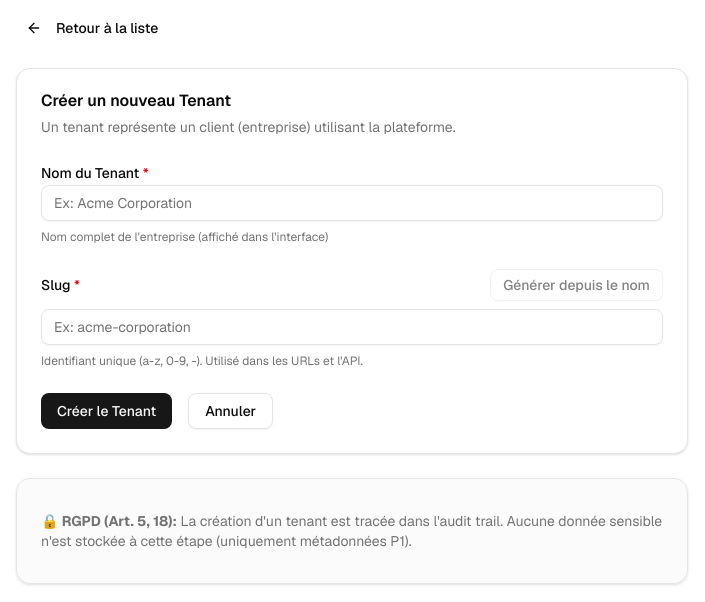
Test: Integration Tests - Tenant CRUD (LOT 11.1) › Create Tenant Form › [INT-008] should auto-generate slug from name
Type "Acme Corporation" into the field labelled "Nom du Tenant *" at [352, 203], box left=41, top=185, right=663, bottom=221
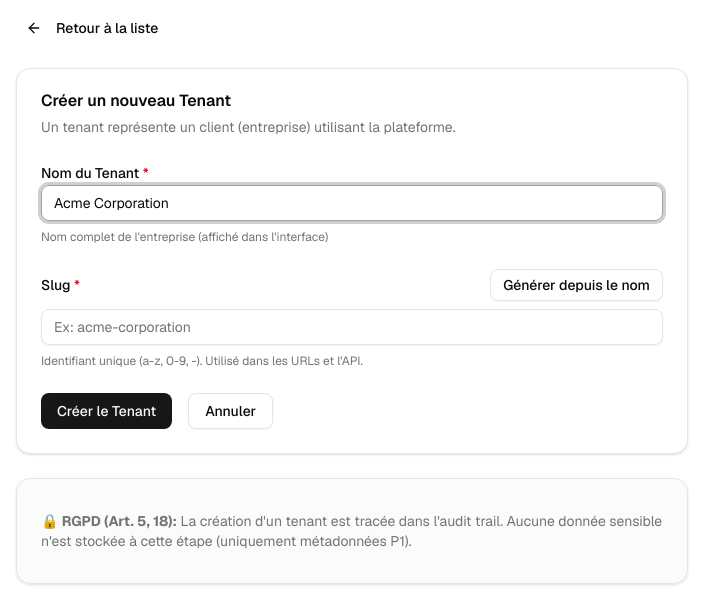
Click the button "Générer depuis le nom" at [577, 285], box left=490, top=269, right=663, bottom=301
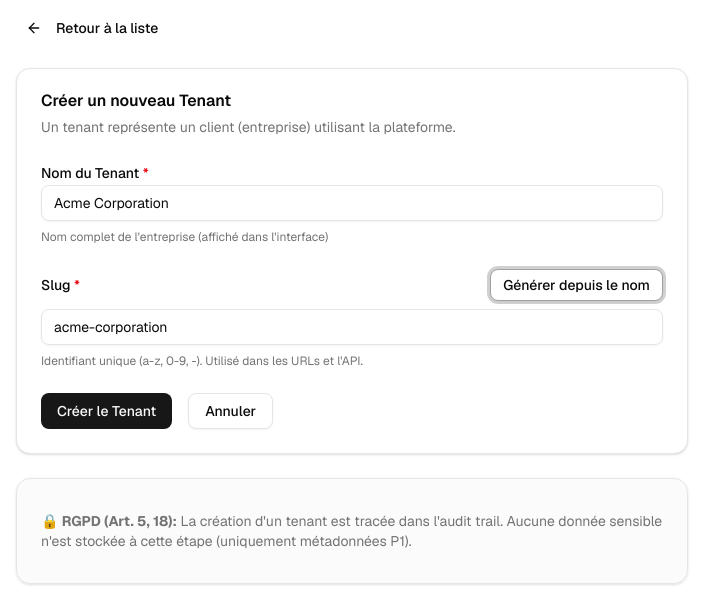
Now the field labelled "Slug *" holds "acme-corporation", box left=41, top=309, right=663, bottom=345
